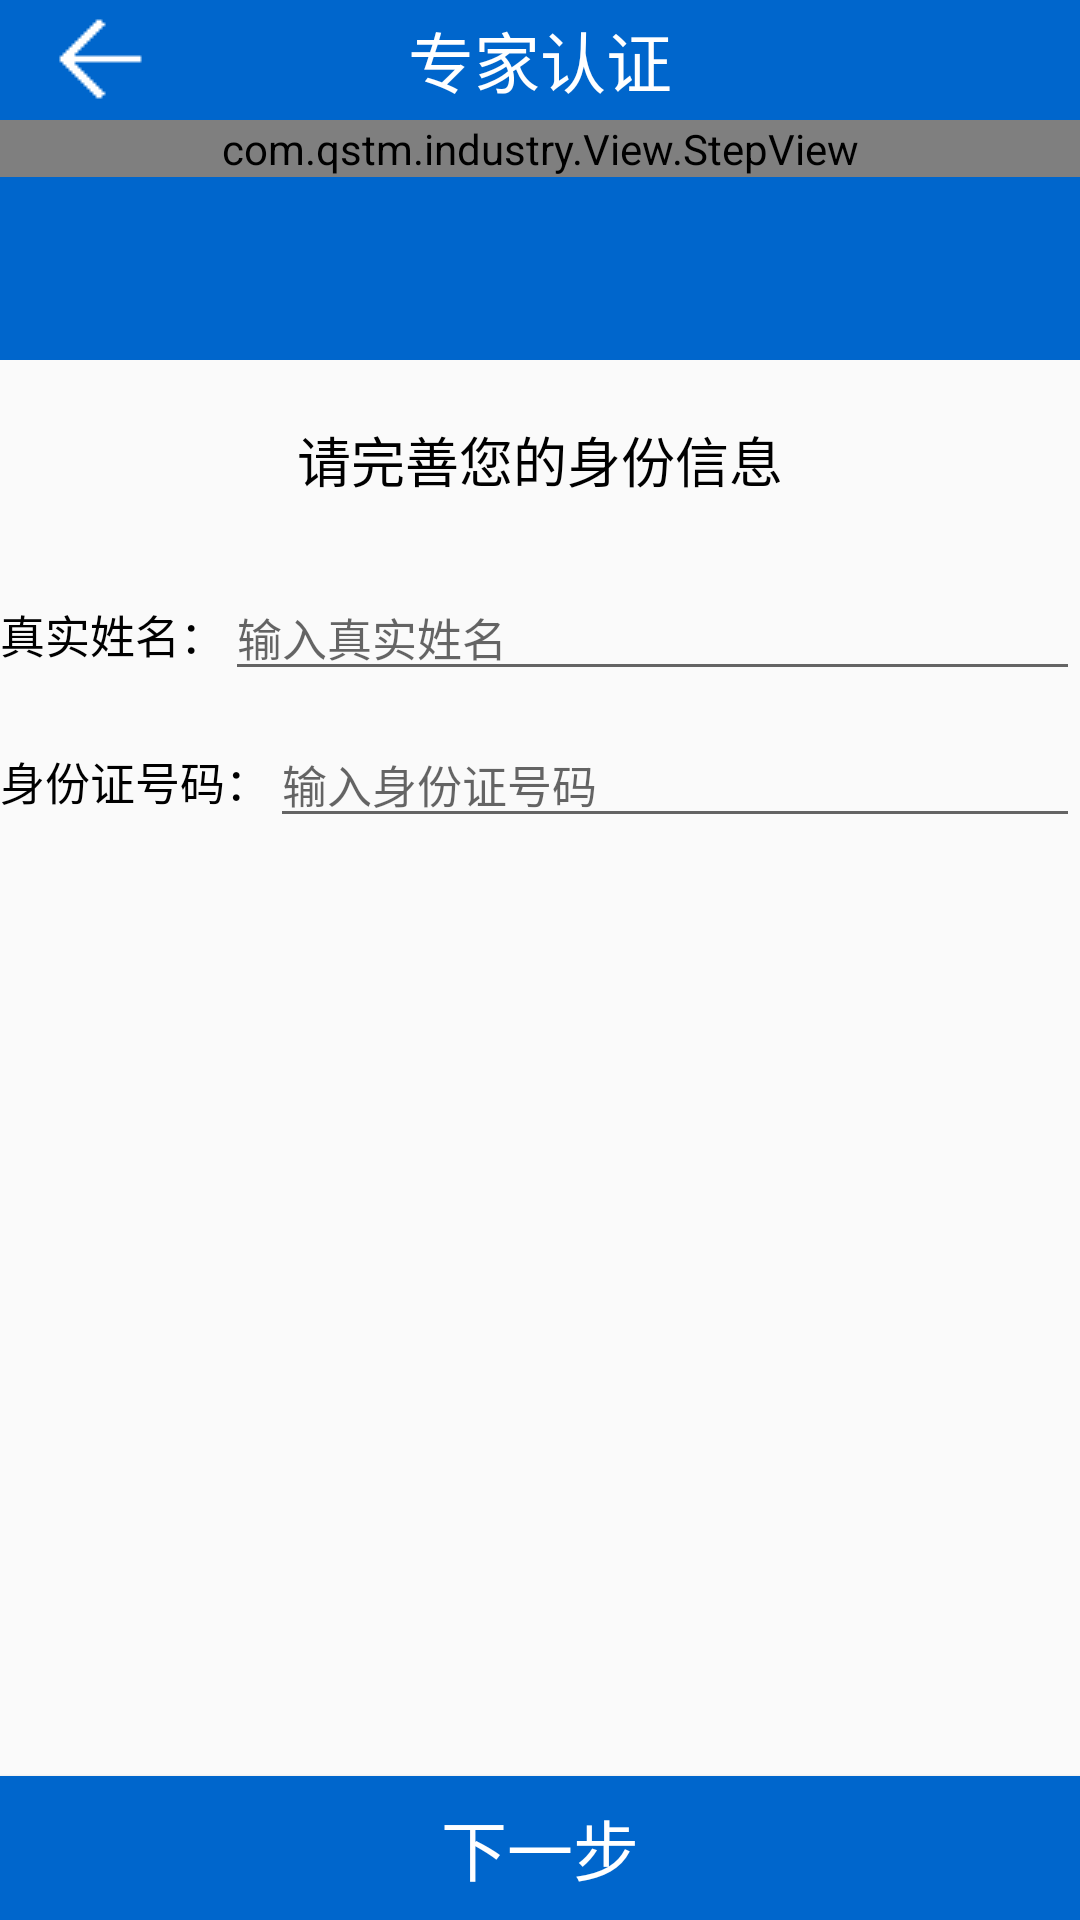

Icons on this 1080px×1920px Android screen, each with its box as box=[x1, y1, x2, y2]:
back: box=[59, 19, 142, 99]
